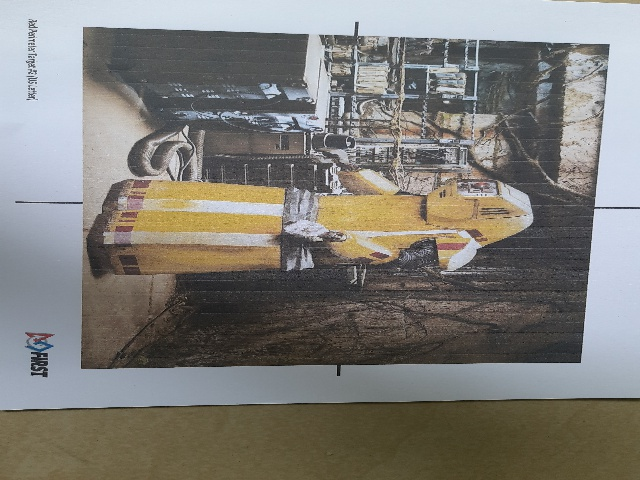rpt2: (4, 8, 622, 391)
